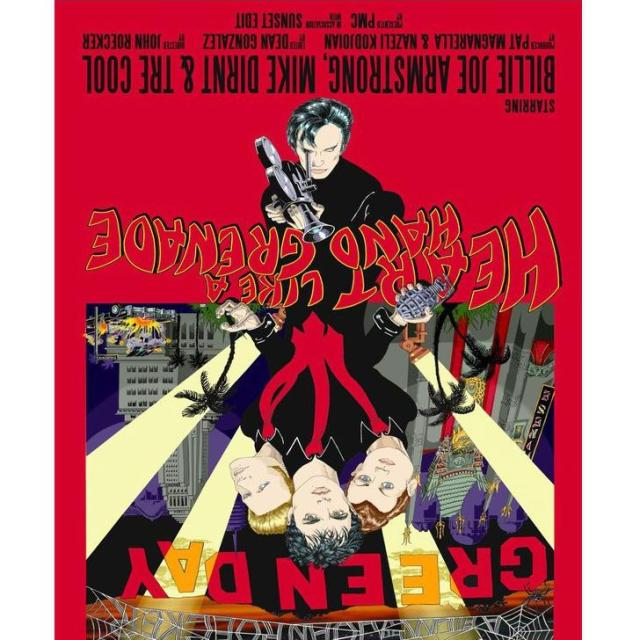grenade: (398, 278, 458, 322)
